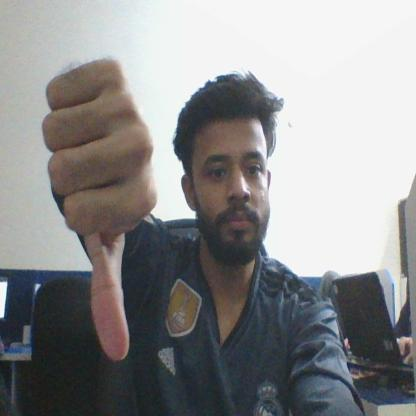thumbs-down: (42, 56, 158, 364)
